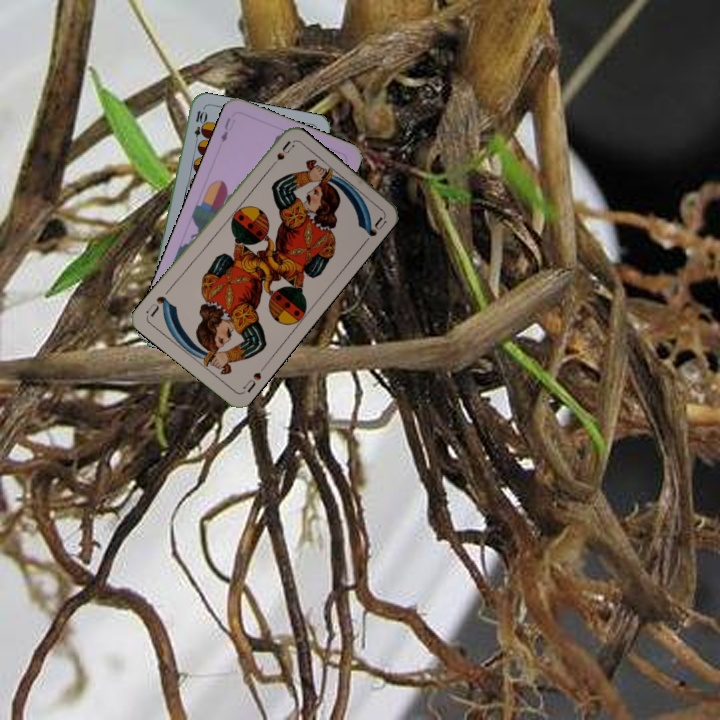E10: (190, 107, 207, 147)
EU: (217, 113, 238, 145)
SU: (264, 137, 296, 173), (238, 368, 264, 396)
